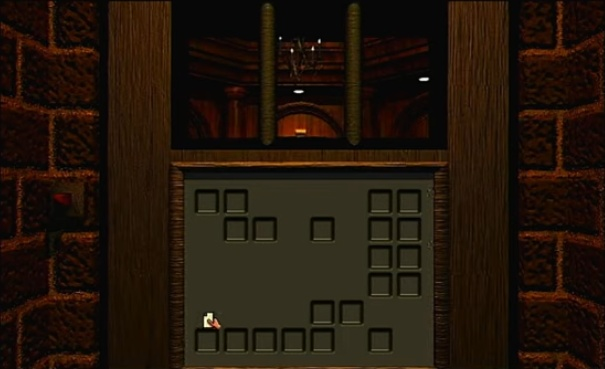Keep: (200, 309, 222, 330)
